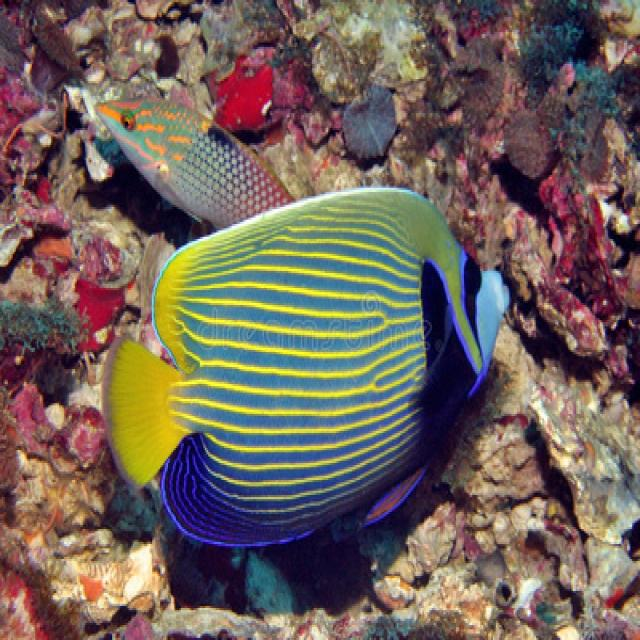AngelFish: (106, 192, 514, 555)
